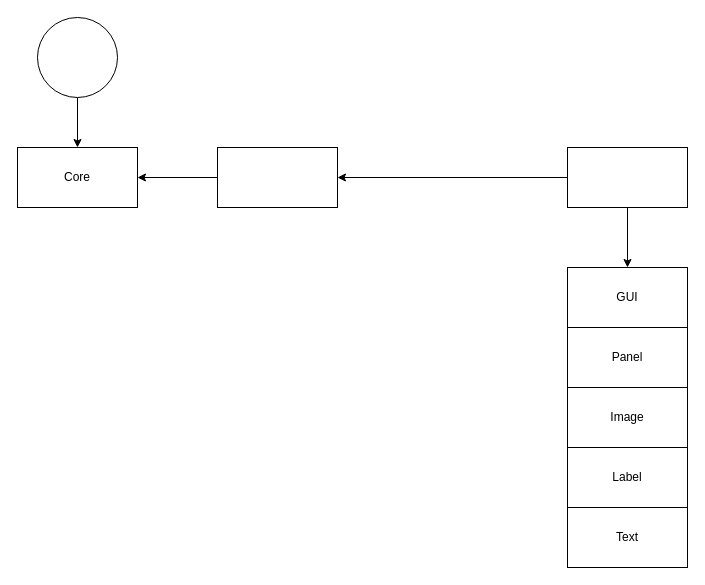
Some shapes in this 705 by 585 pixel diagram are drawn without their labels. The shapes that lost their labels are listed below. From the top down, each one's centre as x and y in pixels, then its label:
point 77,57: Code
point 277,177: Body
point 627,177: Template
